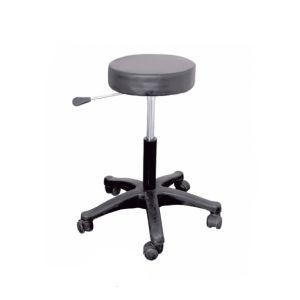stool: (73, 52, 222, 260)
